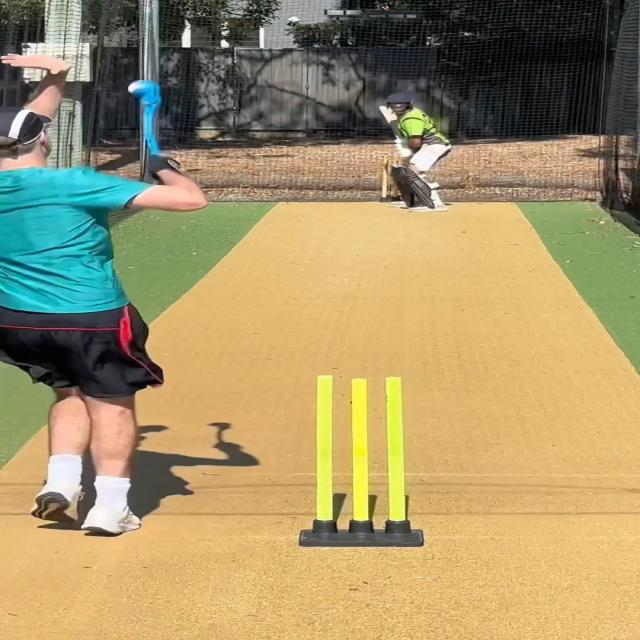stump: (298, 372, 427, 548)
